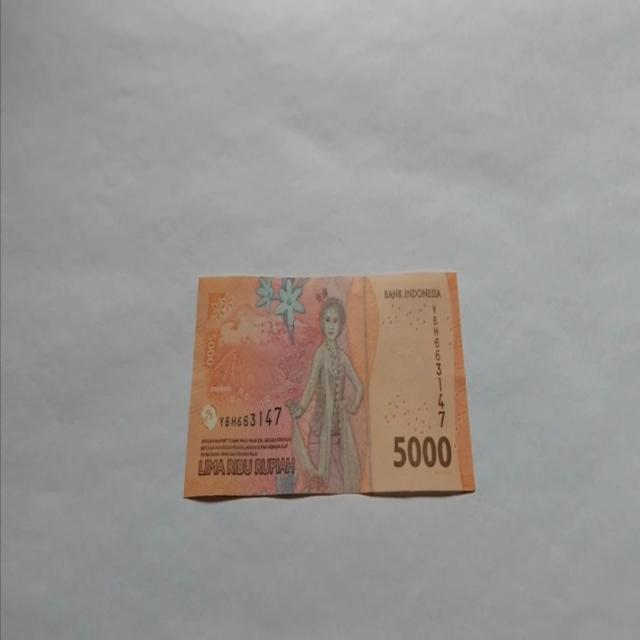lima ribu rupiah: (182, 270, 476, 500), (284, 295, 365, 493)
